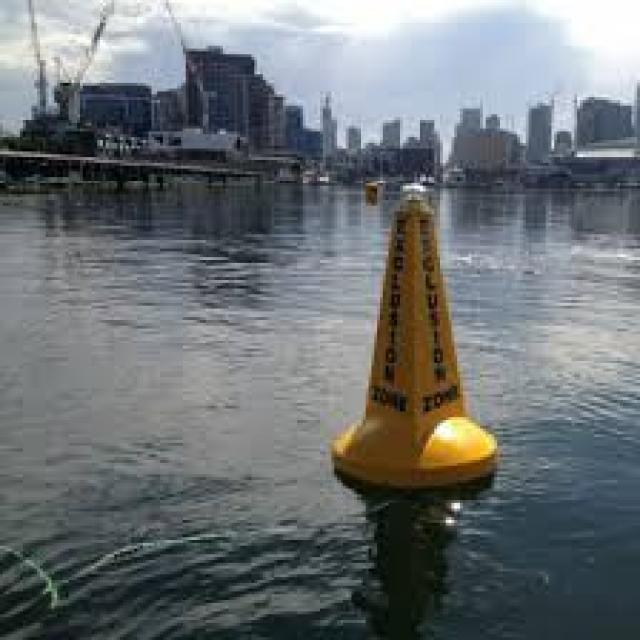2.5 sepcial mark: (322, 166, 502, 524)
